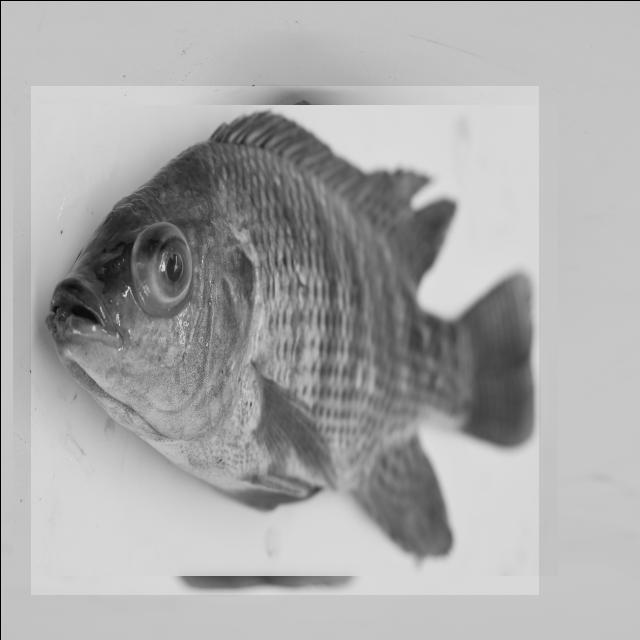Columnaris Disease: (30, 85, 538, 594)
